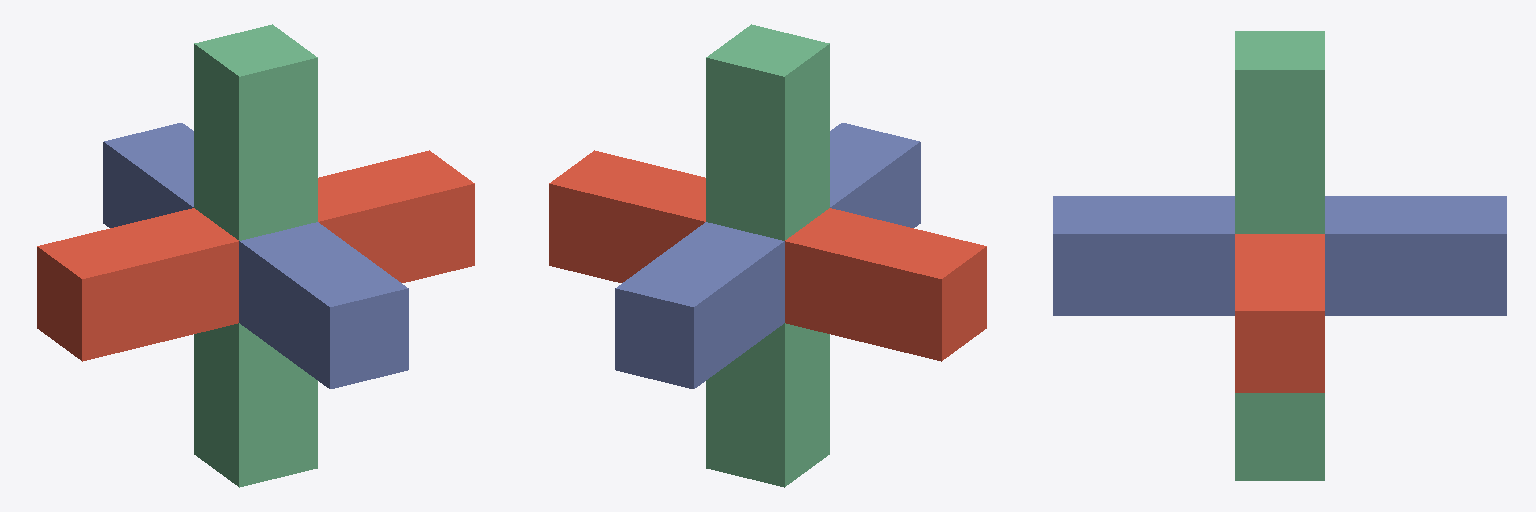
The picture shows the model from 3 angles: view 1: azimuth 30°, elevation 25°; view 2: azimuth 150°, elevation 25°; view 3: azimuth 270°, elevation 25°; orthographic projection.
Visible parts, largest first — view 1: Model; view 2: Model; view 3: Model.
Boxes of the visible parts, x1=… form: Model: x1=37, y1=24, x2=474, y2=487; Model: x1=549, y1=24, x2=986, y2=487; Model: x1=1053, y1=31, x2=1506, y2=480.
Size of the model in its own units: 32 by 32 by 32.
1 materials, 1 textured.